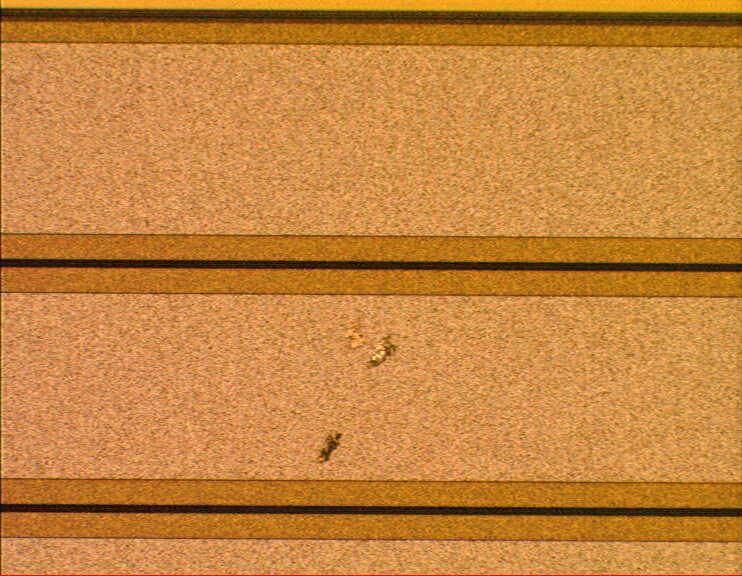SCRATCH: (303, 272, 400, 487)
